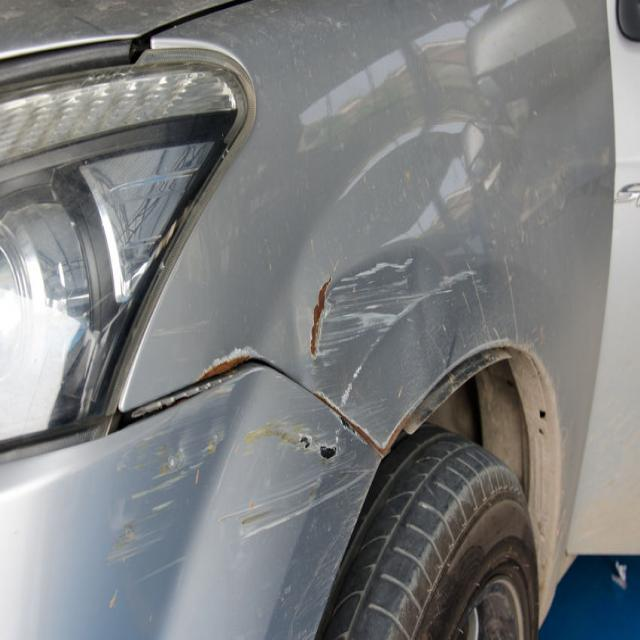scratch: (102, 412, 386, 590), (263, 248, 531, 412)
